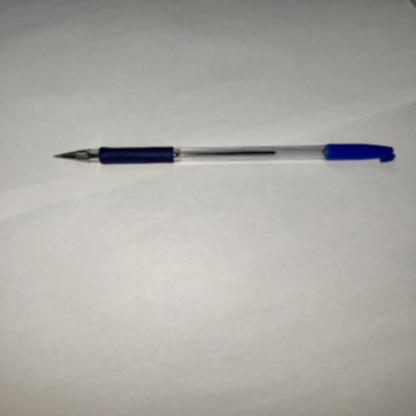Pen: (59, 125, 404, 185)
